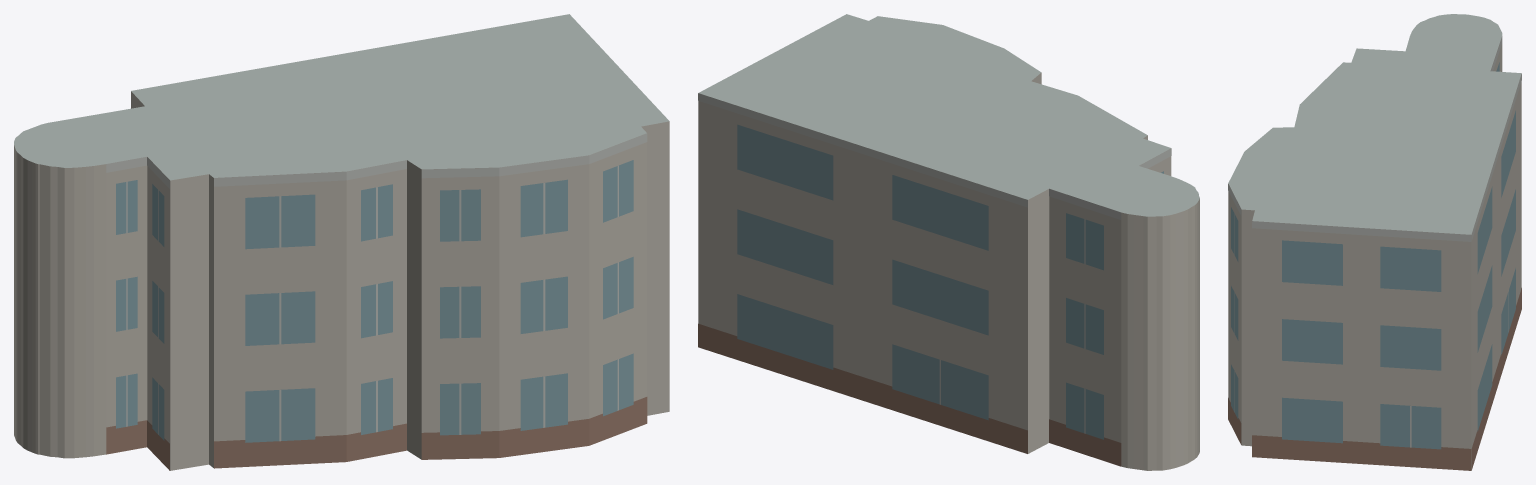
Rendered from survey-upis-33011790.glb.
The picture shows the model from 3 angles, left to right: view 1: azimuth 30°, elevation 25°; view 2: azimuth 150°, elevation 25°; view 3: azimuth 270°, elevation 25°; orthographic projection. The views are drawn at different scales.
Parts seen in each view (by area): view 1: survey-upis-33011790.tmp; view 2: survey-upis-33011790.tmp; view 3: survey-upis-33011790.tmp.
Boxes of the visible parts, left/top/right/bottom form: survey-upis-33011790.tmp: left=14, top=14, right=669, bottom=470; survey-upis-33011790.tmp: left=698, top=14, right=1199, bottom=470; survey-upis-33011790.tmp: left=1228, top=14, right=1521, bottom=470.
Bounding box in the file's own units: 16.06 × 8 × 9.03.
